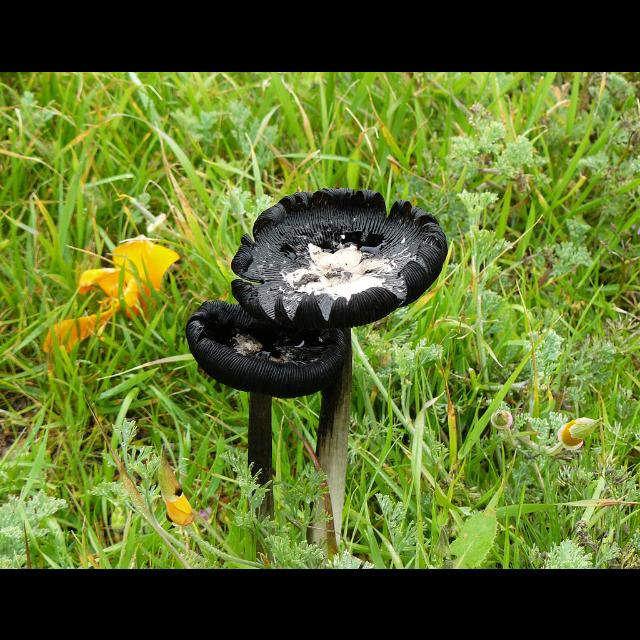Flower: (36, 238, 178, 358)
